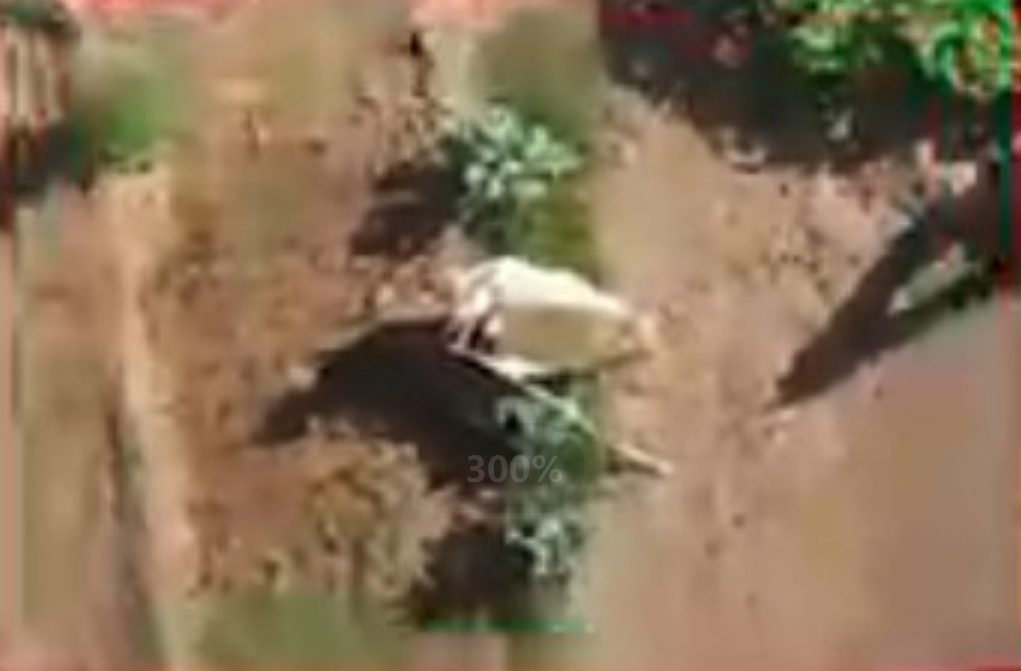Poppy: (451, 373, 619, 588), (440, 92, 590, 216)
